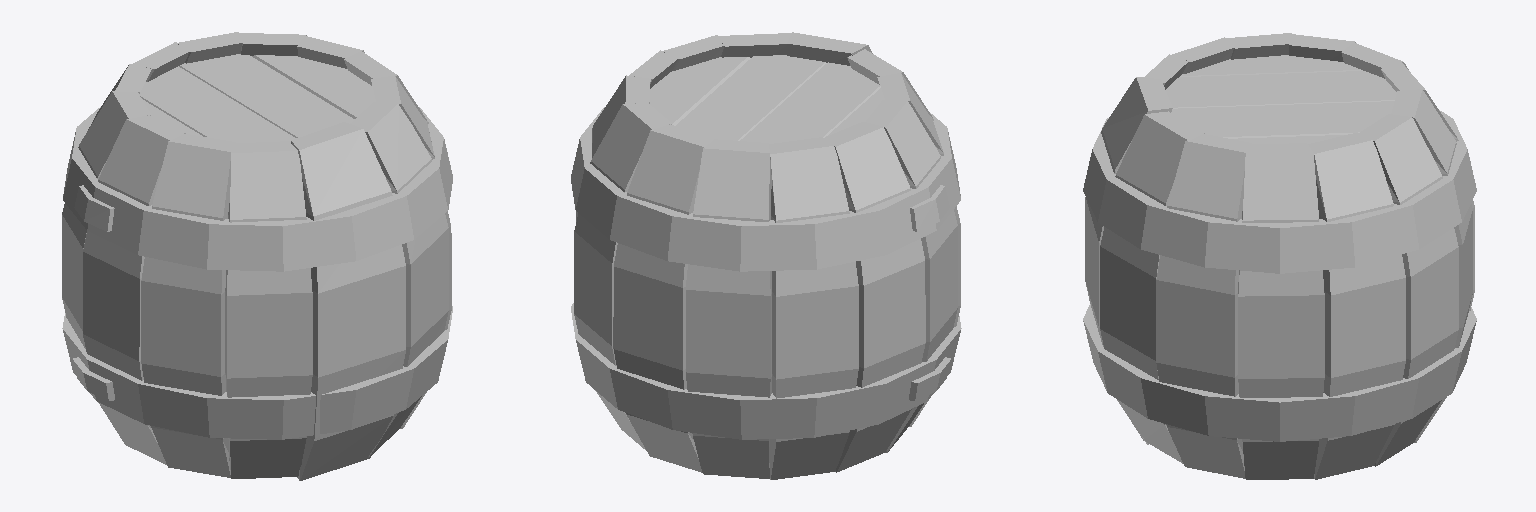
The model's file is barrio_fechado.obj.
The picture shows the model from 3 angles: view 1: azimuth 30°, elevation 25°; view 2: azimuth 150°, elevation 25°; view 3: azimuth 270°, elevation 25°; orthographic projection.
Visible parts, largest first — view 1: Circle.002_Circle.003, Plane.002, Plane.000_Plane.004, Plane.003_Plane.006, Plane.001_Plane.005, Plane.012_Plane.015, Plane.022_Plane.026, Plane.021_Plane.025, Plane.007_Plane.010, Plane.023_Plane.027, Plane.010_Plane.013, Plane.008_Plane.011 (+5 smaller); view 2: Circle.002_Circle.003, Plane.006_Plane.009, Plane.004_Plane.007, Plane.005_Plane.008, Plane.007_Plane.010, Plane.008_Plane.011, Plane.001_Plane.005, Plane.022_Plane.026, Plane.021_Plane.025, Plane.023_Plane.027, Plane.003_Plane.006, Plane.002 (+6 smaller); view 3: Circle.002_Circle.003, Plane.011_Plane.014, Plane.010_Plane.013, Plane.009_Plane.012, Plane.012_Plane.015, Plane.008_Plane.011, Plane.021_Plane.025, Plane.022_Plane.026, Plane.002, Plane.005_Plane.008, Plane.020_Plane.024, Plane.001_Plane.005 (+6 smaller).
Boxes of the visible parts, <box> form: Circle.002_Circle.003: <box>62,107,452,439</box>; Plane.002: <box>291,122,405,480</box>; Plane.000_Plane.004: <box>225,141,312,478</box>; Plane.003_Plane.006: <box>141,134,235,477</box>; Plane.001_Plane.005: <box>83,115,185,464</box>; Plane.012_Plane.015: <box>350,102,448,457</box>; Plane.022_Plane.026: <box>179,54,354,137</box>; Plane.021_Plane.025: <box>139,66,296,142</box>; Plane.007_Plane.010: <box>62,91,151,348</box>; Plane.023_Plane.027: <box>252,55,375,118</box>; Plane.010_Plane.013: <box>371,75,451,428</box>; Plane.008_Plane.011: <box>239,33,306,55</box>; Circle.002_Circle.003: <box>571,107,961,439</box>; Plane.006_Plane.009: <box>769,137,858,479</box>; Plane.004_Plane.007: <box>686,139,771,478</box>; Plane.005_Plane.008: <box>613,124,714,472</box>; Plane.007_Plane.010: <box>825,122,925,472</box>; Plane.008_Plane.011: <box>574,103,672,449</box>; Plane.001_Plane.005: <box>866,100,957,452</box>; Plane.022_Plane.026: <box>676,55,826,140</box>; Plane.021_Plane.025: <box>740,62,880,143</box>; Plane.023_Plane.027: <box>650,57,750,125</box>; Plane.003_Plane.006: <box>877,73,960,426</box>; Plane.002: <box>787,32,872,65</box>; Circle.002_Circle.003: <box>1083,110,1476,441</box>; Plane.011_Plane.014: <box>1238,143,1324,479</box>; Plane.010_Plane.013: <box>1156,134,1251,478</box>; Plane.009_Plane.012: <box>1308,133,1405,479</box>; Plane.012_Plane.015: <box>1100,111,1204,463</box>; Plane.008_Plane.011: <box>1359,114,1458,466</box>; Plane.021_Plane.025: <box>1166,71,1396,108</box>; Plane.022_Plane.026: <box>1171,101,1394,138</box>; Plane.002: <box>1085,77,1172,444</box>; Plane.005_Plane.008: <box>1391,89,1472,442</box>; Plane.020_Plane.024: <box>1180,55,1362,76</box>; Plane.001_Plane.005: <box>1225,33,1291,59</box>.
Size of the model in its own units: 2.8 by 2.56 by 2.77.